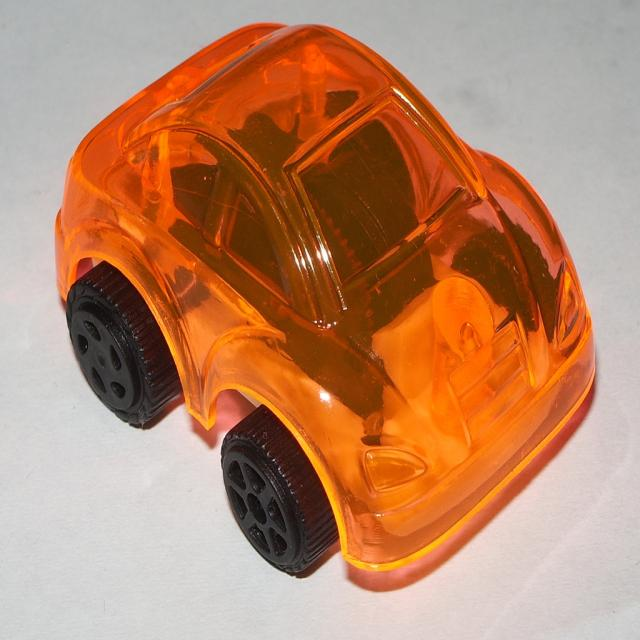car: (50, 15, 596, 569)
